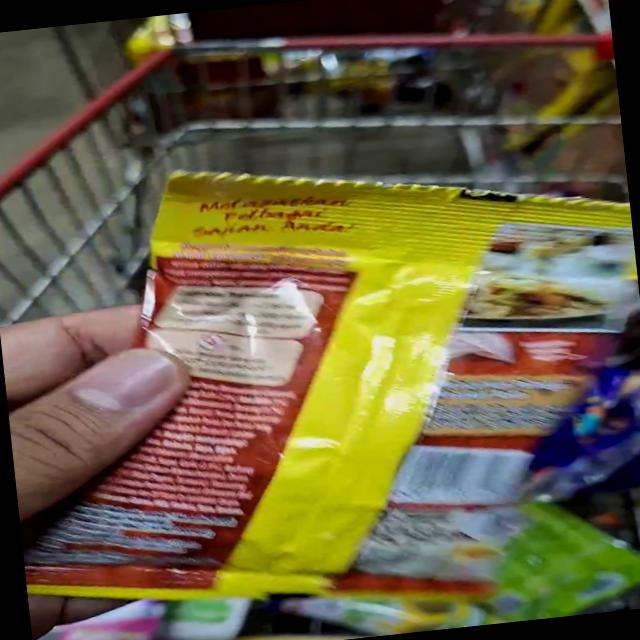Maggi Cukup Rasa: (112, 132, 640, 507), (24, 367, 570, 640)
